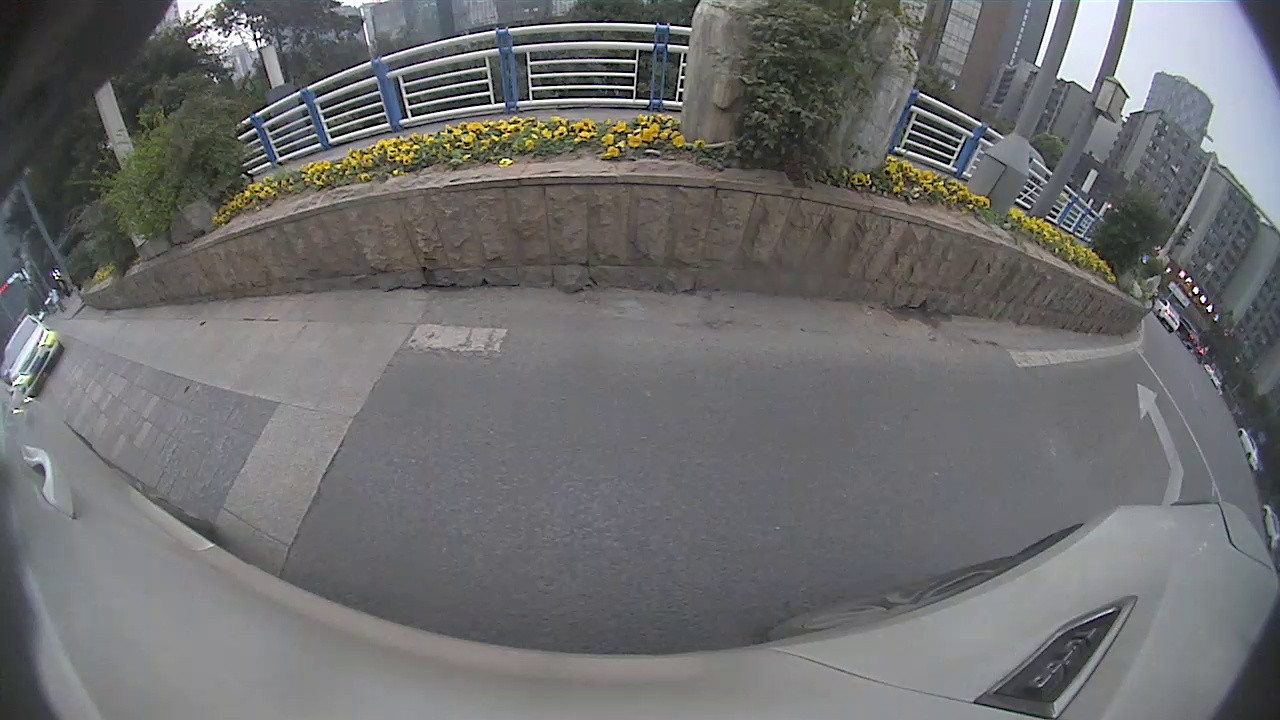car: (1, 312, 63, 399)
